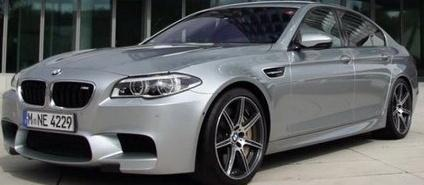Cars: (3, 3, 419, 185)
